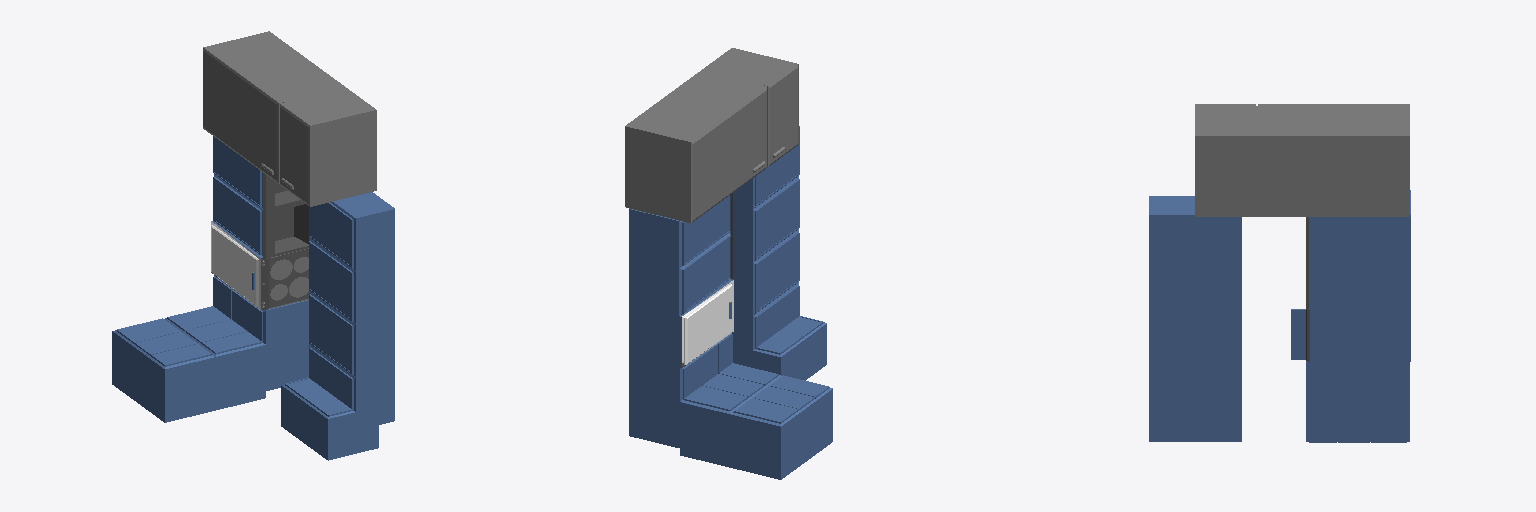
3 renders of one model, left to right at view 1: azimuth 30°, elevation 25°; view 2: azimuth 150°, elevation 25°; view 3: azimuth 270°, elevation 25°, orthographic.
Visible parts, largest first — view 1: polySurface1.001, Counter005:CounterBase.004, Sink002:Counter_Base.001, Counter002:Base.005, Counter005:CounterBase.003, Counter002:Base.001, Stove.001, Counter002:Base.003, Counter002:Base.002, Counter005:CounterBase.001, Counter002:Base.004, Counter005:CounterBase.002; view 2: polySurface1.001, Sink002:Counter_Base.001, Counter005:CounterBase.004, Stove.001, Counter005:CounterBase.003, Counter005:CounterBase.001, Counter002:Base.005, Counter002:Base.002, Counter002:Base.003, Counter002:Base.004, Counter002:Base.001, Counter005:CounterBase.002; view 3: polySurface1.001, Sink002:Counter_Base.001, Stove.001, Counter002:Base.001, Counter005:CounterBase.001, Counter002:Base.002, Counter002:Base.003, Counter002:Base.004, Counter005:CounterBase.002, Counter002:Base.005.
Boxes of the visible parts, x1,y1,x2,y2 form: polySurface1.001: [203, 31, 376, 206]; Counter005:CounterBase.004: [112, 318, 215, 422]; Sink002:Counter_Base.001: [213, 136, 308, 258]; Counter002:Base.005: [281, 378, 378, 460]; Counter005:CounterBase.003: [165, 306, 265, 409]; Counter002:Base.001: [309, 192, 394, 270]; Stove.001: [211, 221, 308, 309]; Counter002:Base.003: [309, 291, 394, 377]; Counter002:Base.002: [309, 238, 394, 324]; Counter005:CounterBase.001: [213, 275, 308, 363]; Counter002:Base.004: [309, 344, 394, 424]; Counter005:CounterBase.002: [266, 354, 308, 390]; polySurface1.001: [625, 48, 798, 222]; Sink002:Counter_Base.001: [629, 193, 732, 315]; Counter005:CounterBase.004: [730, 375, 832, 479]; Stove.001: [629, 279, 733, 368]; Counter005:CounterBase.003: [680, 363, 781, 467]; Counter005:CounterBase.001: [629, 333, 732, 420]; Counter002:Base.005: [733, 316, 826, 380]; Counter002:Base.002: [733, 176, 799, 262]; Counter002:Base.003: [733, 229, 799, 315]; Counter002:Base.004: [732, 282, 799, 367]; Counter002:Base.001: [733, 126, 799, 209]; Counter005:CounterBase.002: [629, 409, 679, 447]; polySurface1.001: [1195, 104, 1409, 216]; Sink002:Counter_Base.001: [1306, 190, 1410, 309]; Stove.001: [1291, 309, 1410, 361]; Counter002:Base.001: [1149, 196, 1241, 267]; Counter005:CounterBase.001: [1306, 361, 1409, 414]; Counter002:Base.002: [1149, 268, 1241, 320]; Counter002:Base.003: [1149, 321, 1241, 373]; Counter002:Base.004: [1149, 374, 1241, 426]; Counter005:CounterBase.002: [1306, 415, 1409, 442]; Counter002:Base.005: [1149, 427, 1241, 441].
Size of the model in its own units: 1.72 by 3.33 by 2.5.
1 materials, 1 textured.